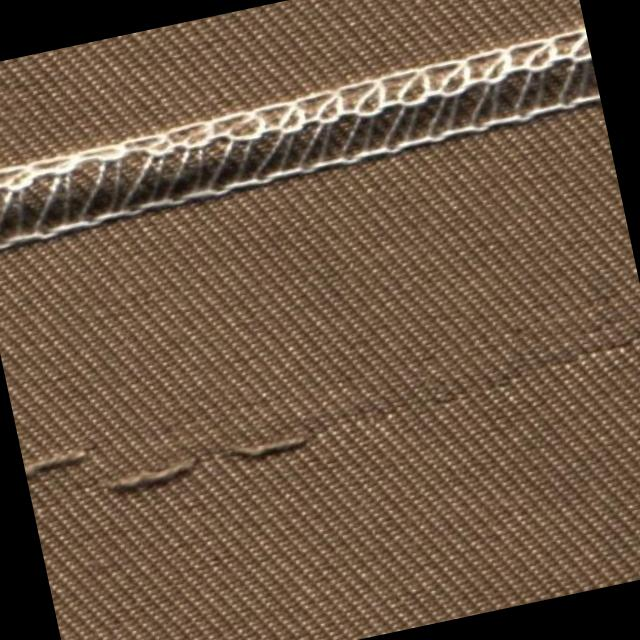gray stitch: (0, 15, 604, 253)
